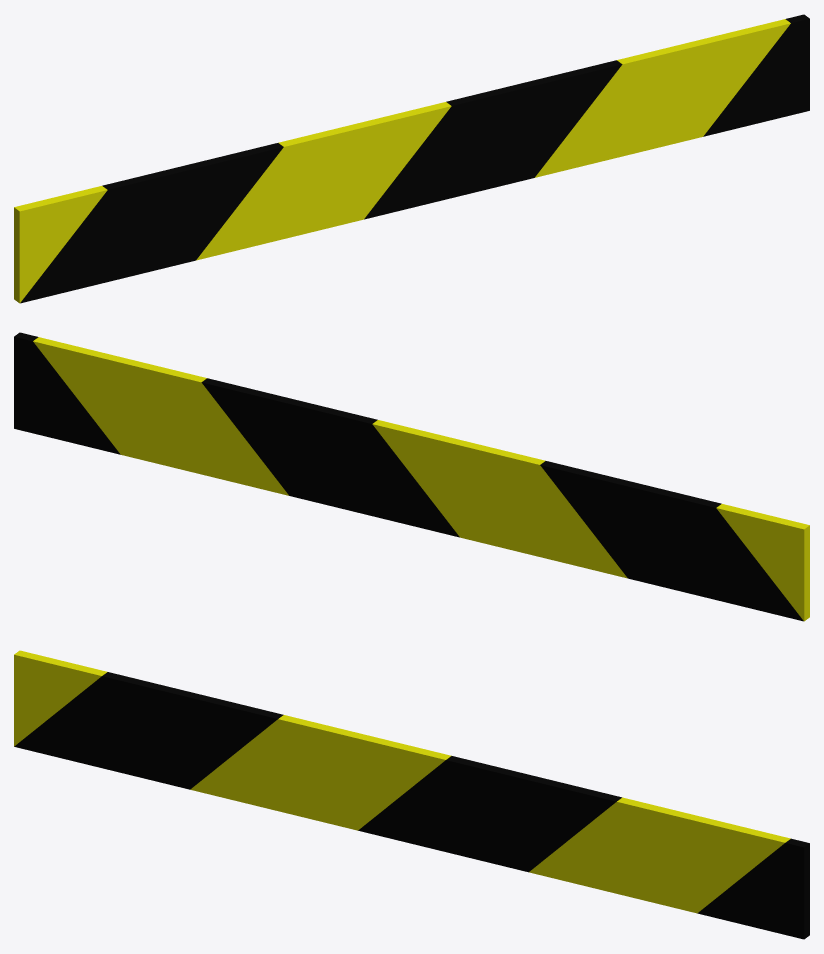
File: police-cross-line.fbx
3 renders of one model, top to bottom at view 1: azimuth 30°, elevation 25°; view 2: azimuth 150°, elevation 25°; view 3: azimuth 330°, elevation 25°, orthographic.
Parts seen in each view (by area): view 1: Cube; view 2: Cube; view 3: Cube.
Part boxes in pixels (x1,y1,x2,y2): Cube: (14,14,809,303); Cube: (14,332,809,621); Cube: (14,650,809,939).
Size of the model in its own units: 196 by 21.84 by 2.5.
